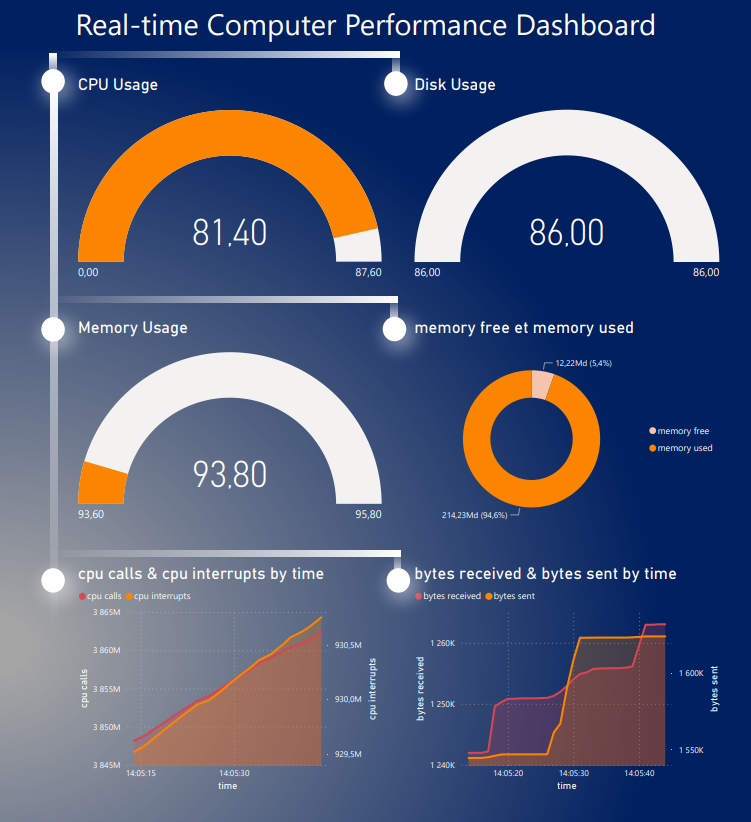

The page's visual inventory and layout, read from the dashboard file:
{"tool":"powerbi","page":{"name":"Page 1","canvas":[1100,1200],"ordinal":0},"visuals":[{"type":"textbox","box":[107.1,0,1172.2,73.4],"z":0},{"type":"gauge","title":"CPU Usage","fields":{"Y":["Performance.cpu_usage_latest"],"MinValue":["Min(Performance.cpu_usage)"],"MaxValue":["Max(Performance.cpu_usage)1"]},"box":[111.1,109.1,452.2,327.3],"z":1000},{"type":"gauge","title":"Disk Usage","fields":{"Y":["Performance.disk_usage_latest"],"MinValue":["Min(Performance.disk_usage)"],"MaxValue":["Max(Performance.disk_usage)"]},"box":[601,109.1,454.2,327.3],"z":2000},{"type":"gauge","title":"Memory Usage","fields":{"Y":["Performance.memory_usage_latest"],"MinValue":["Min(Performance.memory_usage)"],"MaxValue":["Max(Performance.memory_usage)"]},"box":[111.1,462.1,452.2,327.3],"z":3000},{"type":"areaChart","title":"bytes received & bytes sent by time","fields":{"Category":["Performance.time"],"Y":["Sum(Performance.bytes_received)"],"Y2":["Sum(Performance.bytes_sent)"]},"box":[601,821.2,454.2,337.2],"z":4000},{"type":"areaChart","title":"cpu calls & cpu interrupts by time","fields":{"Category":["Performance.time"],"Y":["Sum(Performance.cpu_calls)"],"Y2":["Sum(Performance.cpu_interrupts)"]},"box":[111.1,821.2,446.3,337.2],"z":5000},{"type":"donutChart","fields":{"Y":["Sum(Performance.memory_free)","Sum(Performance.memory_used)"]},"box":[601,462.1,454.2,327.3],"z":6000},{"type":"actionButton","box":[23.8,65.5,628.8,856.9],"z":7000}]}

Visuals, with their boxes in screenshot pixels (x1, y1, x2, y2), scaled from the page's 1100x1200 canvas onto the 751x822 screenshot:
textbox: [73,0,750,50]
"CPU Usage" gauge: [76,75,385,299]
"Disk Usage" gauge: [410,75,720,299]
"Memory Usage" gauge: [76,317,385,541]
"bytes received & bytes sent by time" areaChart: [410,563,720,794]
"cpu calls & cpu interrupts by time" areaChart: [76,563,381,794]
donutChart - Sum(Performance.memory_free) x Sum(Performance.memory_used): [410,317,720,541]
actionButton: [16,45,446,632]
